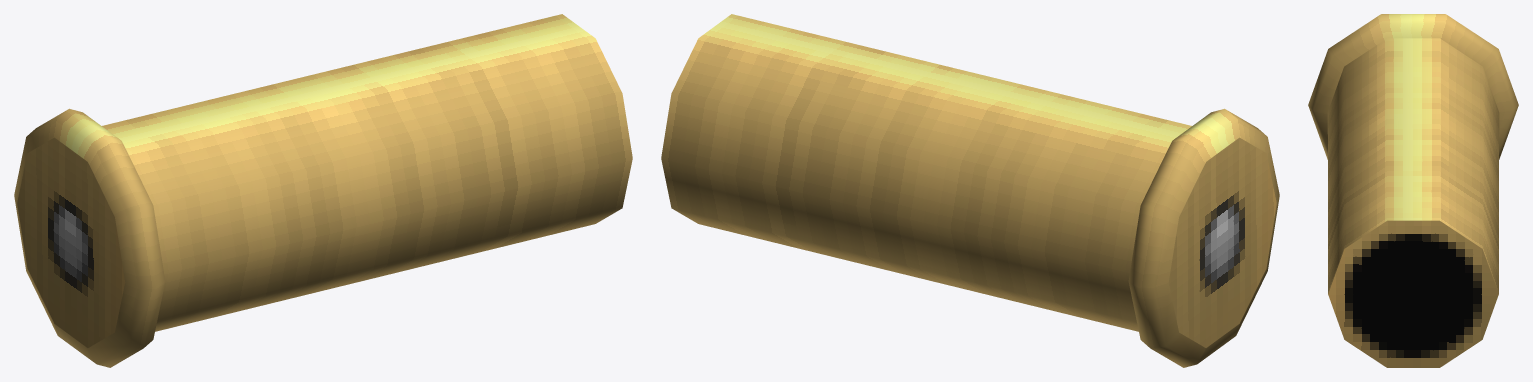
Rendered from ammomaker_CasingStraightSRim.fbx.
3 renders of one model, left to right at view 1: azimuth 30°, elevation 25°; view 2: azimuth 150°, elevation 25°; view 3: azimuth 270°, elevation 25°, orthographic. The views are drawn at different scales.
Visible parts, largest first — view 1: ammomaker_CasingStraightSRim; view 2: ammomaker_CasingStraightSRim; view 3: ammomaker_CasingStraightSRim.
Part boxes in pixels (bbox=[...]): ammomaker_CasingStraightSRim: bbox=[14, 14, 632, 367]; ammomaker_CasingStraightSRim: bbox=[661, 14, 1279, 367]; ammomaker_CasingStraightSRim: bbox=[1308, 14, 1518, 367].
Bounding box in the file's own units: 1.56 × 0.6714 × 0.706.
